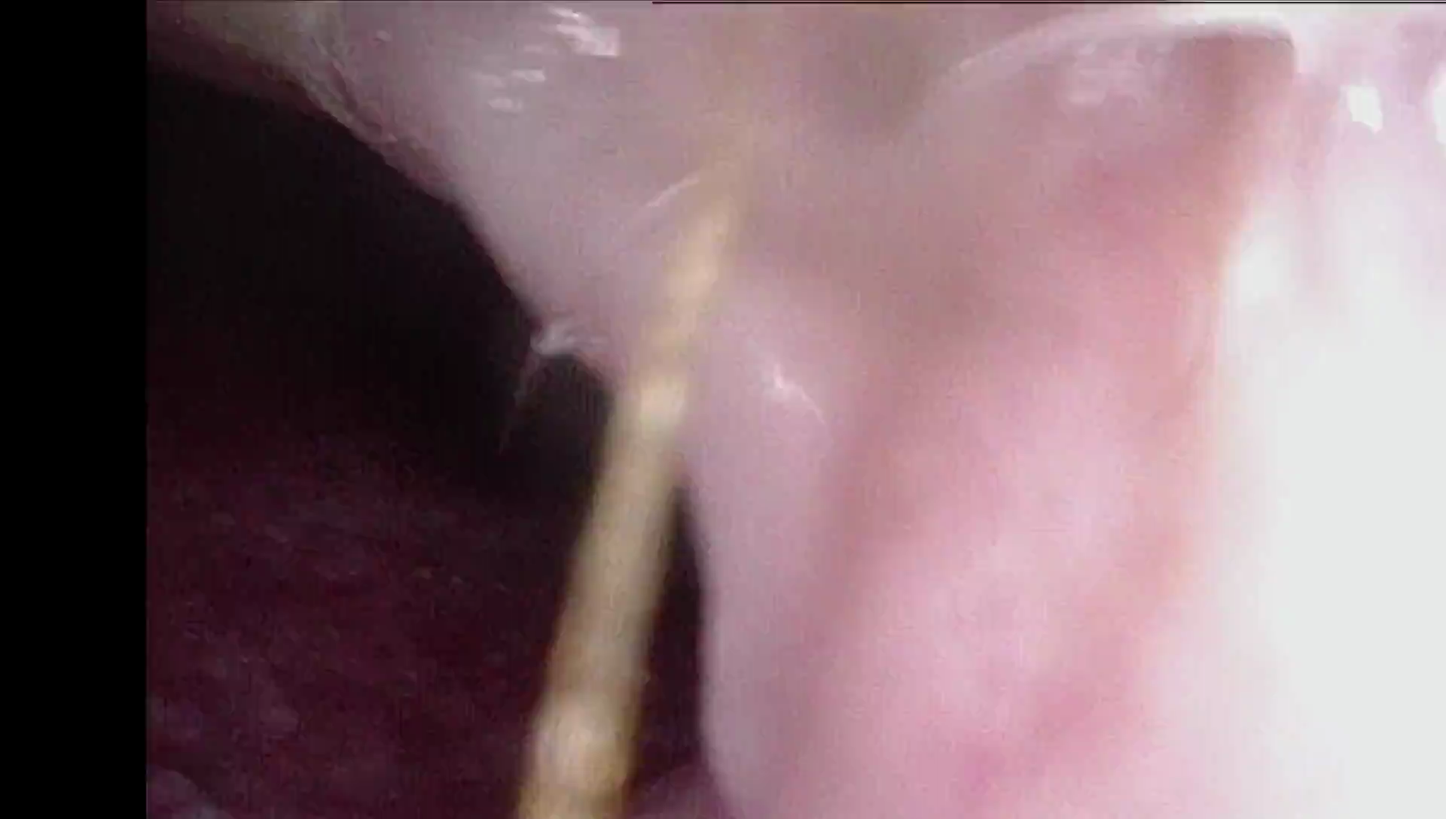close_wall: (919, 129, 1446, 819)
next: (185, 105, 526, 477)
